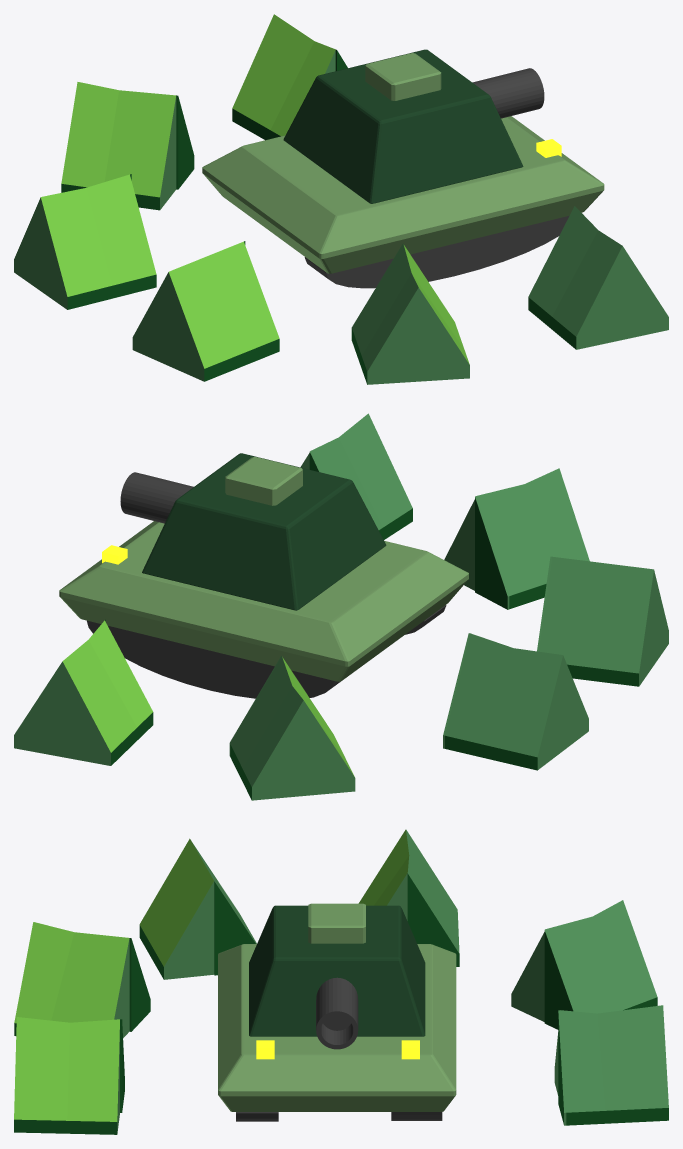
The model's file is army.fbx.
3 renders of one model, top to bottom at view 1: azimuth 30°, elevation 25°; view 2: azimuth 150°, elevation 25°; view 3: azimuth 270°, elevation 25°, orthographic. The views are drawn at different scales.
Visible parts, largest first — view 1: Cube, Cube.001, Cube.008, Cube.006, Cube.009, Cube.007, Cube.005, Cube.010, Cylinder.002, Cube.004, Cylinder; view 2: Cube, Cube.001, Cube.008, Cube.006, Cube.005, Cube.010, Cube.009, Cylinder.001, Cube.007, Cube.004, Cylinder; view 3: Cube, Cube.001, Cube.010, Cube.007, Cube.009, Cube.005, Cube.006, Cube.008, Cylinder, Cube.004, Cylinder.001.
Boxes of the visible parts, left/top/right/bottom form: Cube: left=202, top=116, right=604, bottom=273; Cube.001: left=283, top=49, right=523, bottom=203; Cube.008: left=14, top=174, right=156, bottom=309; Cube.006: left=132, top=241, right=279, bottom=381; Cube.009: left=61, top=82, right=194, bottom=210; Cube.007: left=528, top=206, right=668, bottom=349; Cube.005: left=351, top=243, right=469, bottom=384; Cube.010: left=232, top=14, right=347, bottom=140; Cylinder.002: left=304, top=215, right=569, bottom=288; Cube.004: left=365, top=53, right=441, bottom=100; Cylinder: left=472, top=68, right=544, bottom=118; Cube: left=59, top=521, right=468, bottom=681; Cube.001: left=142, top=453, right=386, bottom=610; Cube.008: left=443, top=633, right=588, bottom=770; Cube.006: left=537, top=556, right=668, bottom=686; Cube.005: left=444, top=468, right=589, bottom=609; Cube.010: left=14, top=619, right=153, bottom=765; Cube.009: left=229, top=656, right=355, bottom=800; Cylinder.001: left=87, top=620, right=340, bottom=698; Cube.007: left=300, top=413, right=412, bottom=539; Cube.004: left=225, top=457, right=302, bottom=505; Cylinder: left=120, top=472, right=193, bottom=523; Cube: left=218, top=944, right=456, bottom=1111; Cube.001: left=249, top=905, right=425, bottom=1036; Cube.010: left=554, top=1005, right=668, bottom=1125; Cube.007: left=14, top=1017, right=124, bottom=1134; Cube.009: left=511, top=900, right=657, bottom=1029; Cube.005: left=14, top=922, right=150, bottom=1038; Cube.006: left=139, top=838, right=256, bottom=979; Cube.008: left=358, top=829, right=459, bottom=966; Cylinder: left=316, top=977, right=358, bottom=1049; Cube.004: left=308, top=903, right=365, bottom=943; Cylinder.001: left=391, top=1112, right=442, bottom=1120.
Size of the model in its own units: 329 by 117 by 398.
